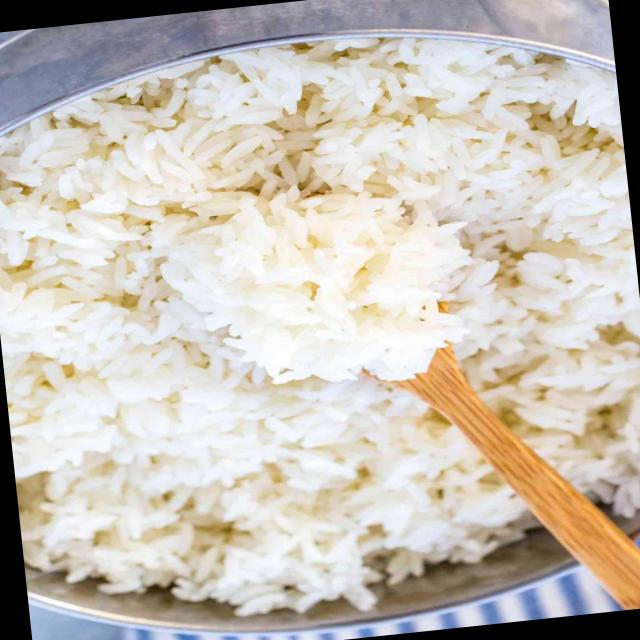rice: (0, 39, 640, 610)
